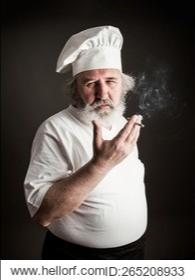Cigarette: (25, 25, 150, 260), (127, 116, 144, 128)
